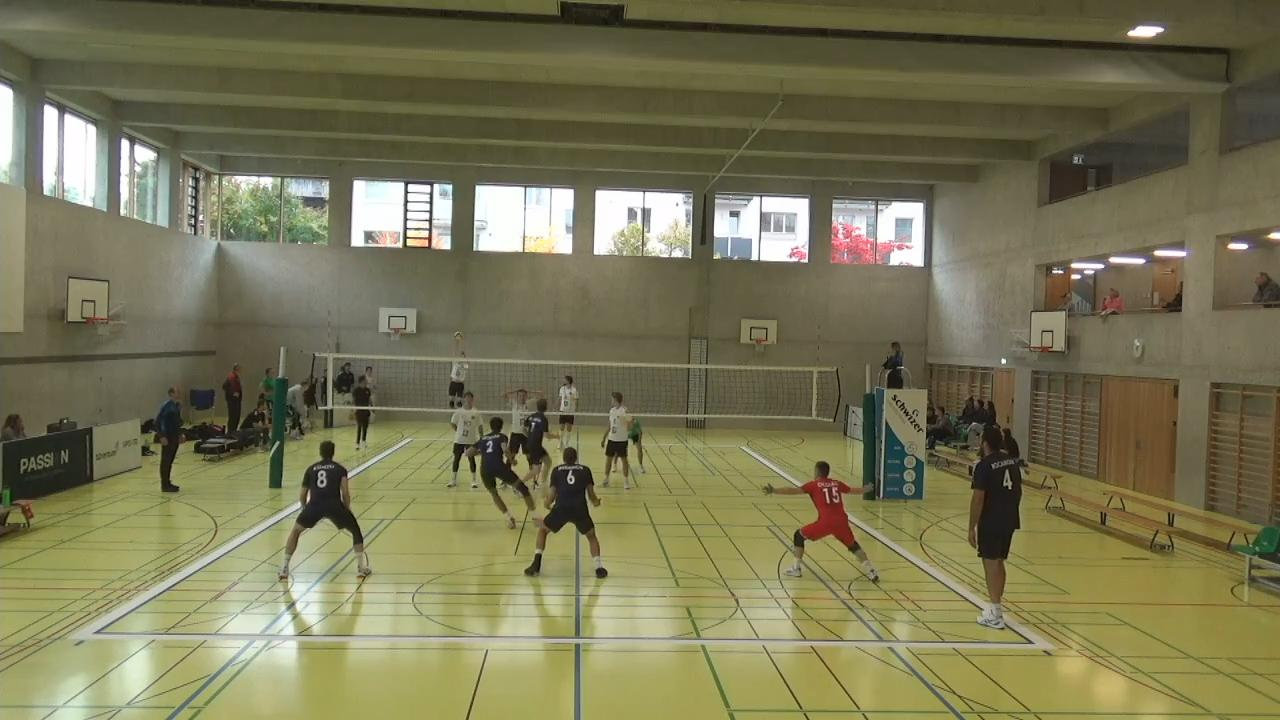battuta: (445, 332, 469, 424)
